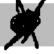not correct: (3, 0, 47, 52)
